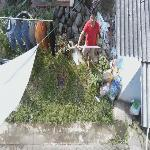Pedang: (60, 40, 108, 57)
